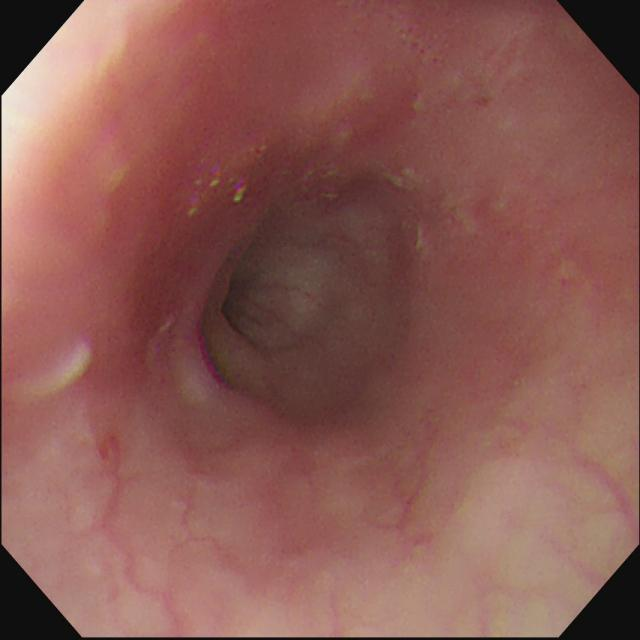A: (116, 222, 197, 386), (96, 422, 121, 468)
E: (221, 272, 279, 345)
J: (402, 197, 476, 256), (384, 167, 428, 195)
U: (233, 178, 249, 206)
